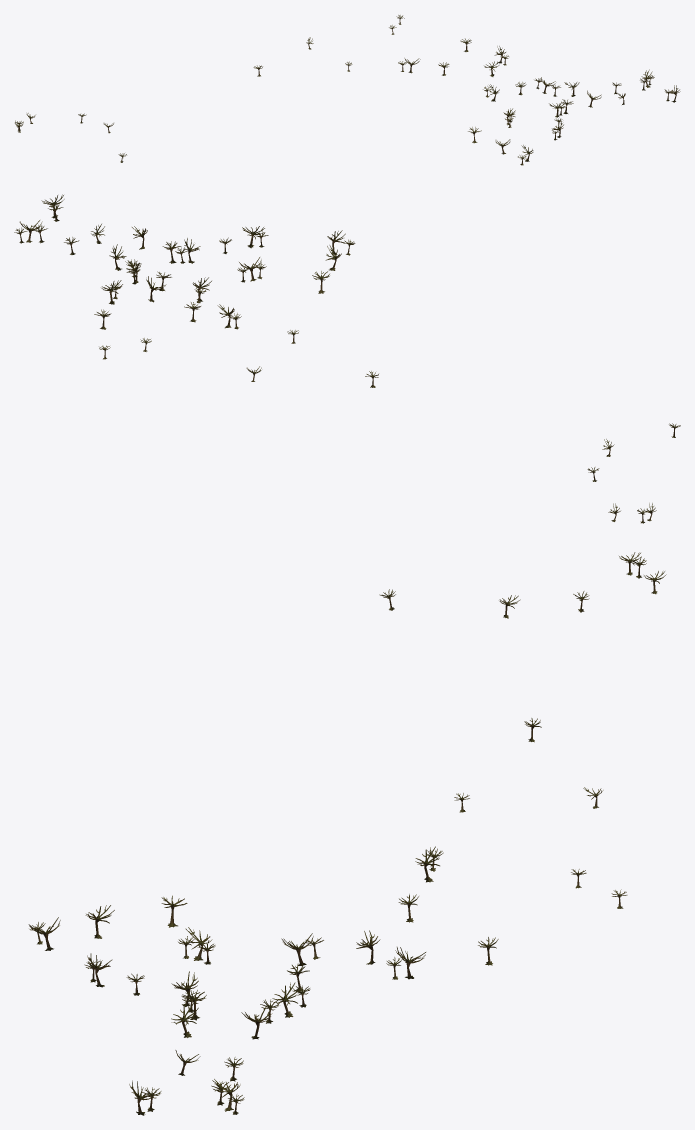
The model's file is DeadThreesBlock.FBX.
3 renders of one model, top to bottom at view 1: azimuth 30°, elevation 25°; view 2: azimuth 150°, elevation 25°; view 3: azimuth 270°, elevation 25°, orthographic. The views are drawn at different scales.
Visible parts, largest first — view 1: Tree:Tree022; view 2: Tree:Tree022; view 3: Tree:Tree022.
Part boxes in pixels (left/top/right/bottom): Tree:Tree022: left=15, top=15, right=680, bottom=165; Tree:Tree022: left=14, top=194, right=680, bottom=523; Tree:Tree022: left=28, top=552, right=666, bottom=1115.
Size of the model in its own units: 1387 by 105 by 705.
